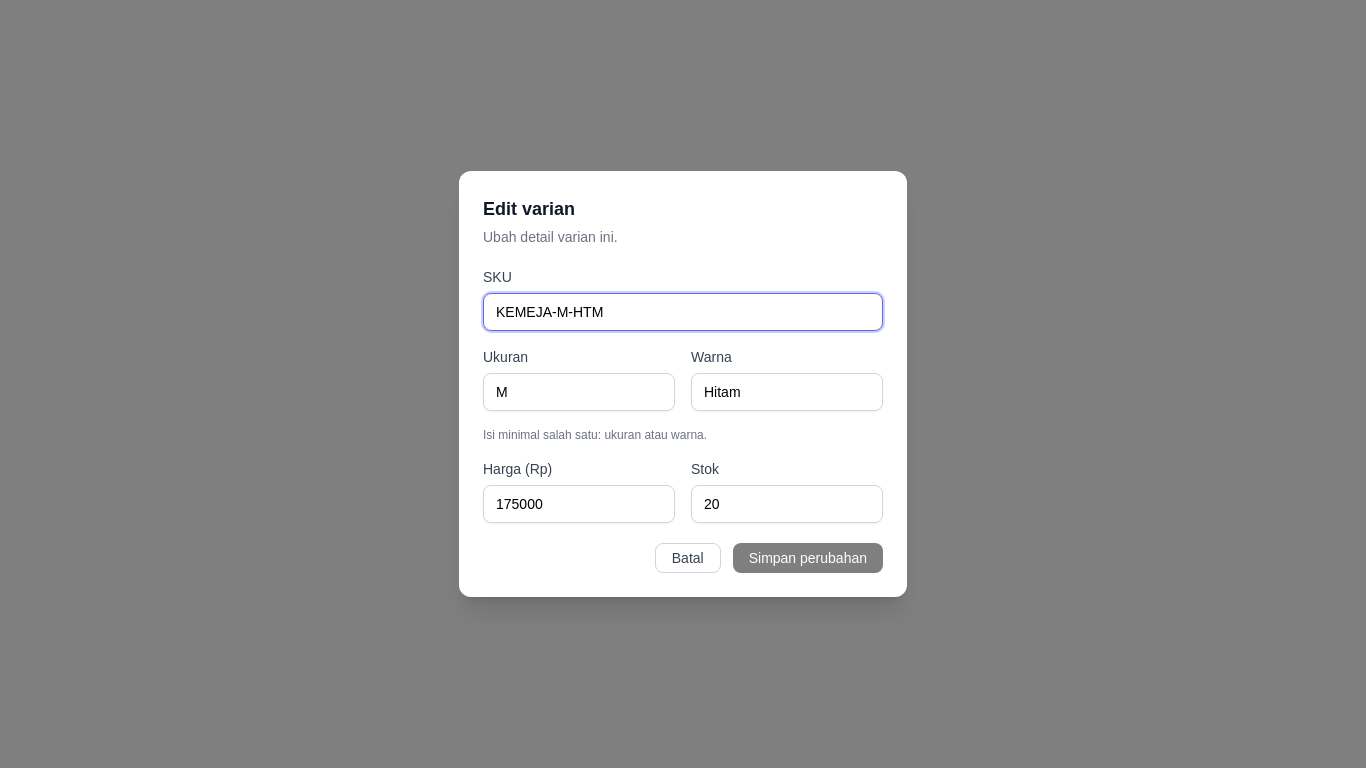
Scenario: VariantEditModal › Status Dirty (isDirty) › mengaktifkan tombol submit saat field diubah dan menonaktifkannya kembali jika dikembalikan ke nilai awal
Expected: the button "Simpan perubahan" is disabled, [733,543,883,573]
Replace the text in the field labelled "SKU" with "KEMEJA-M-HTM-NEW" at point(683, 312), box [483,293,883,331]
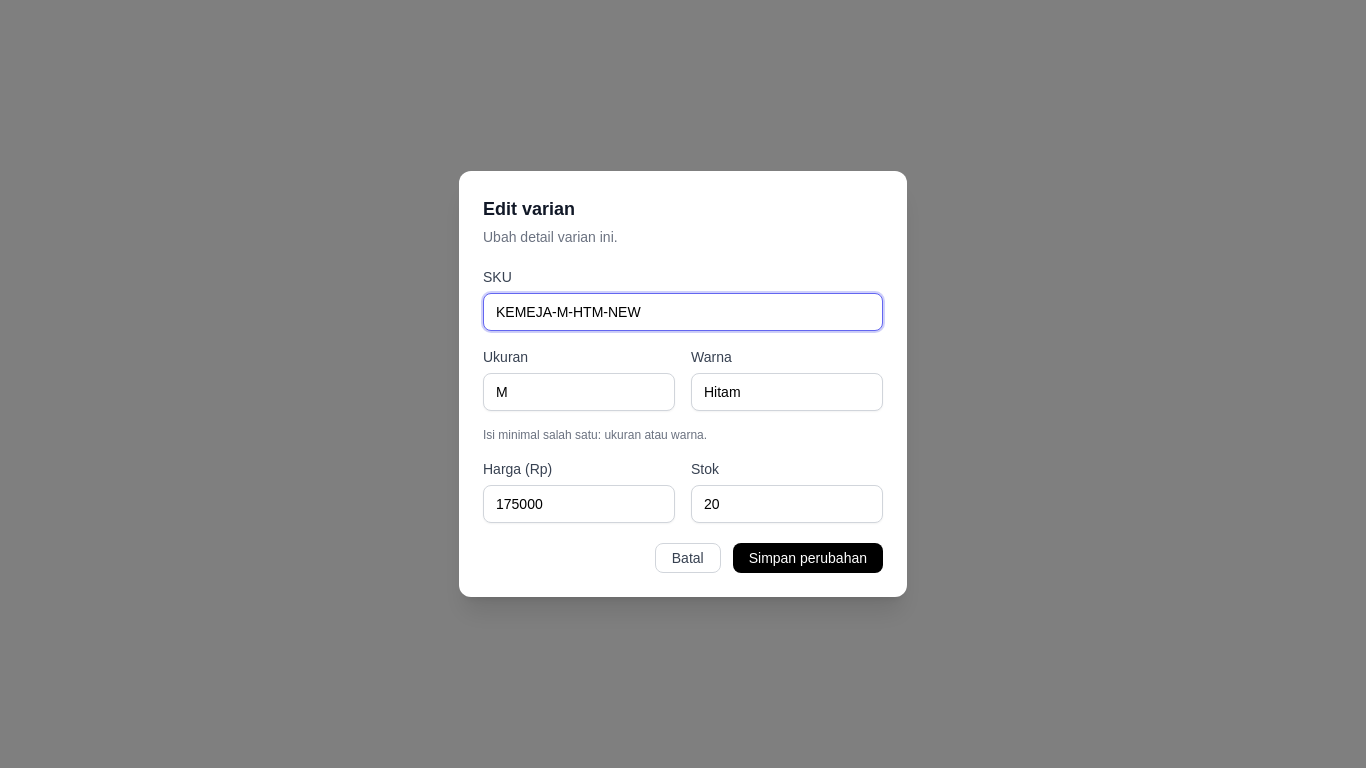
Expected: the button "Simpan perubahan" is enabled, [733,543,883,573]
Replace the text in the field labelled "SKU" with "KEMEJA-M-HTM" at point(683, 312), box [483,293,883,331]
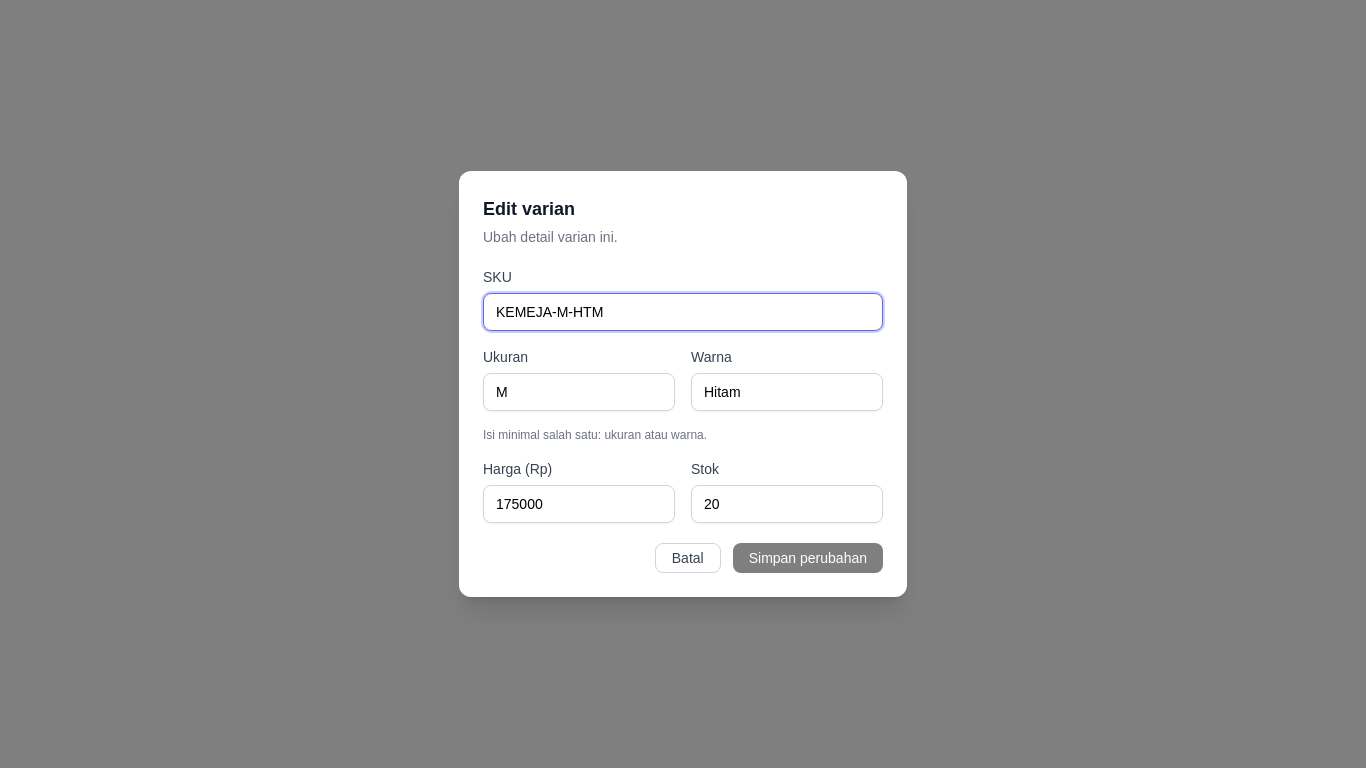
Expected: the button "Simpan perubahan" is disabled, [733,543,883,573]
